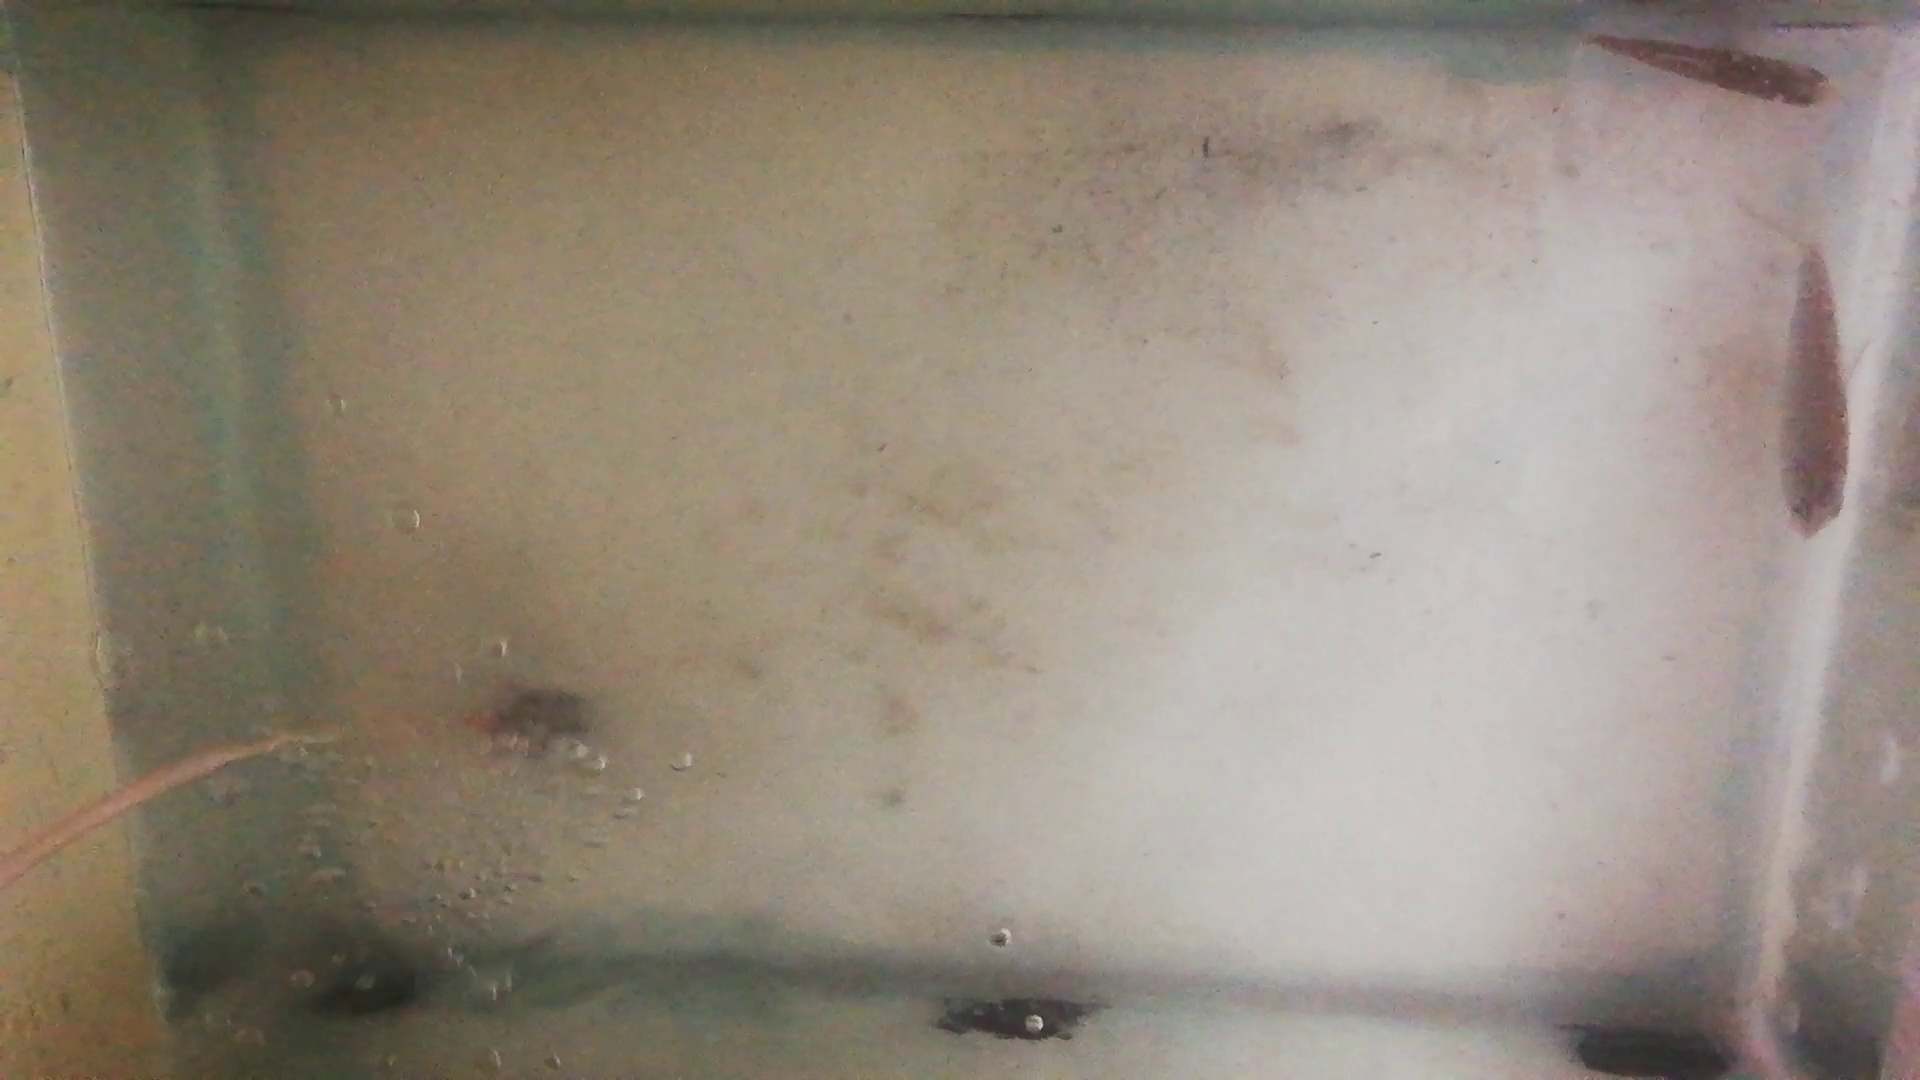fish: (1774, 251, 1851, 539), (1586, 33, 1836, 111)
